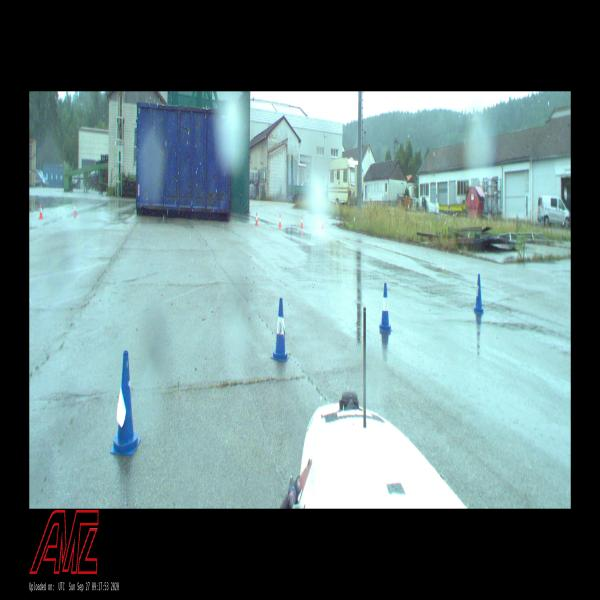blue_cone: (111, 352, 140, 454), (272, 298, 289, 362), (378, 284, 392, 331), (474, 275, 484, 314)
orange_cone: (39, 204, 43, 219), (73, 202, 77, 217), (278, 215, 282, 228), (300, 215, 303, 228), (322, 216, 324, 229), (256, 213, 258, 225)
